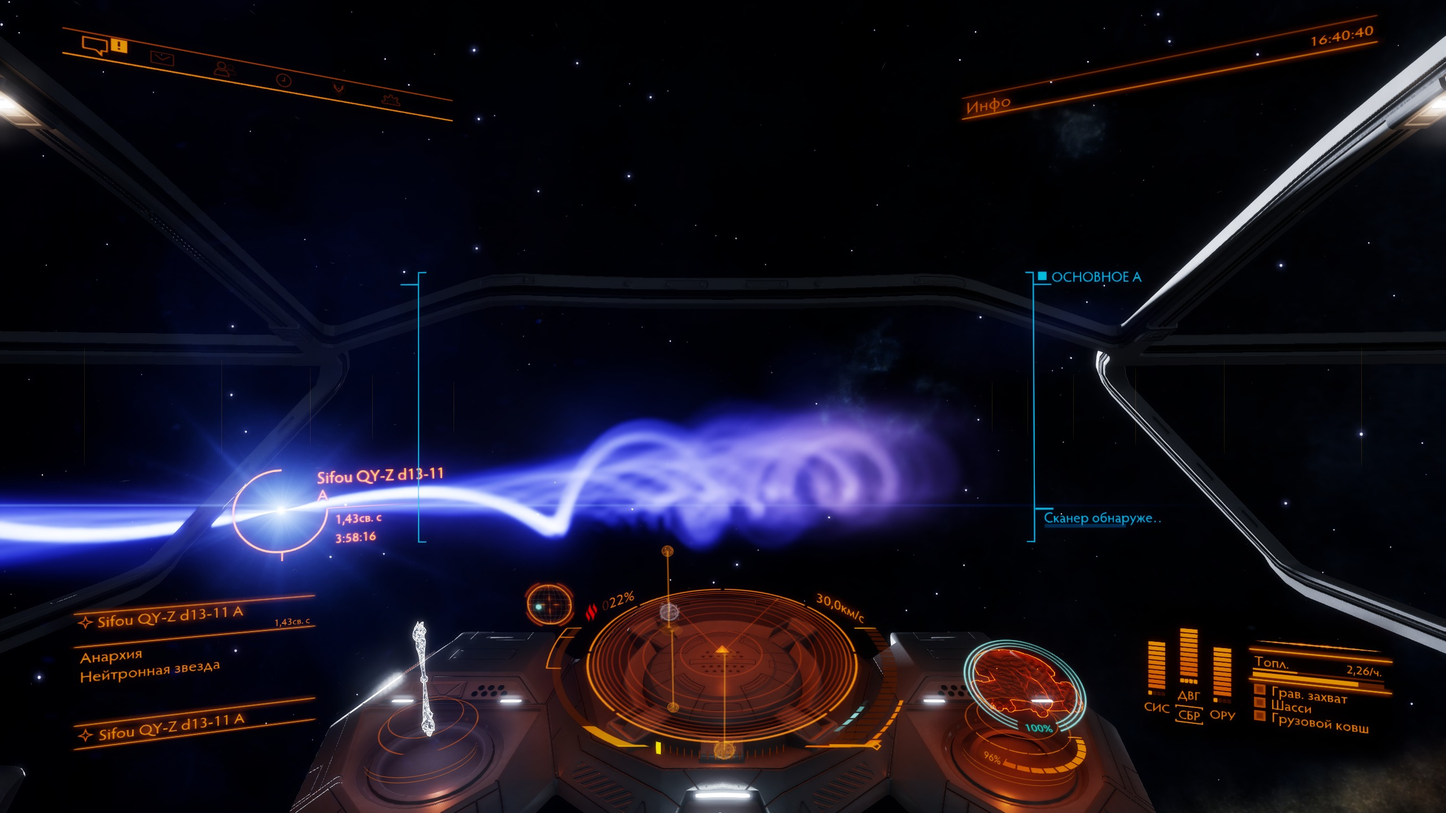jetcone: (344, 383, 956, 555)
